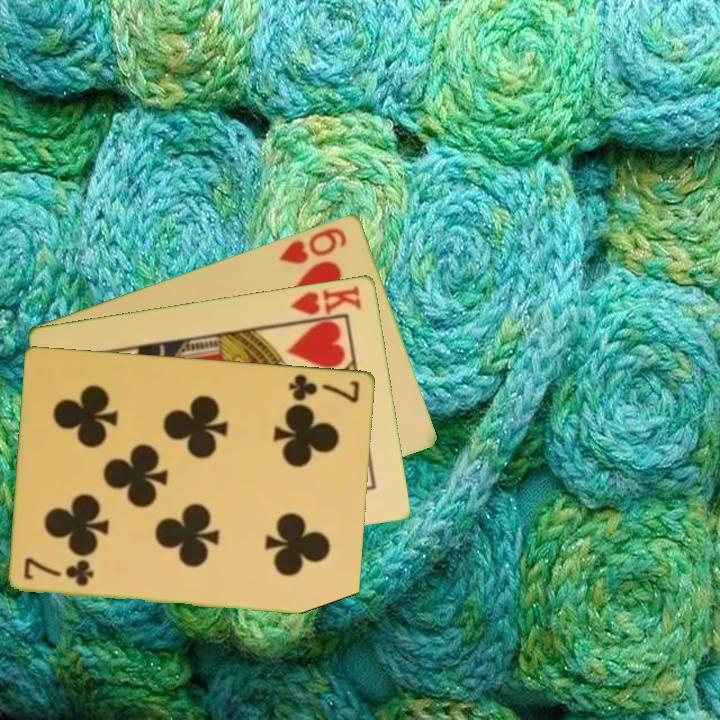6h: (275, 223, 350, 267)
7c: (286, 370, 363, 406), (20, 555, 97, 589)
Kh: (286, 281, 365, 325)
